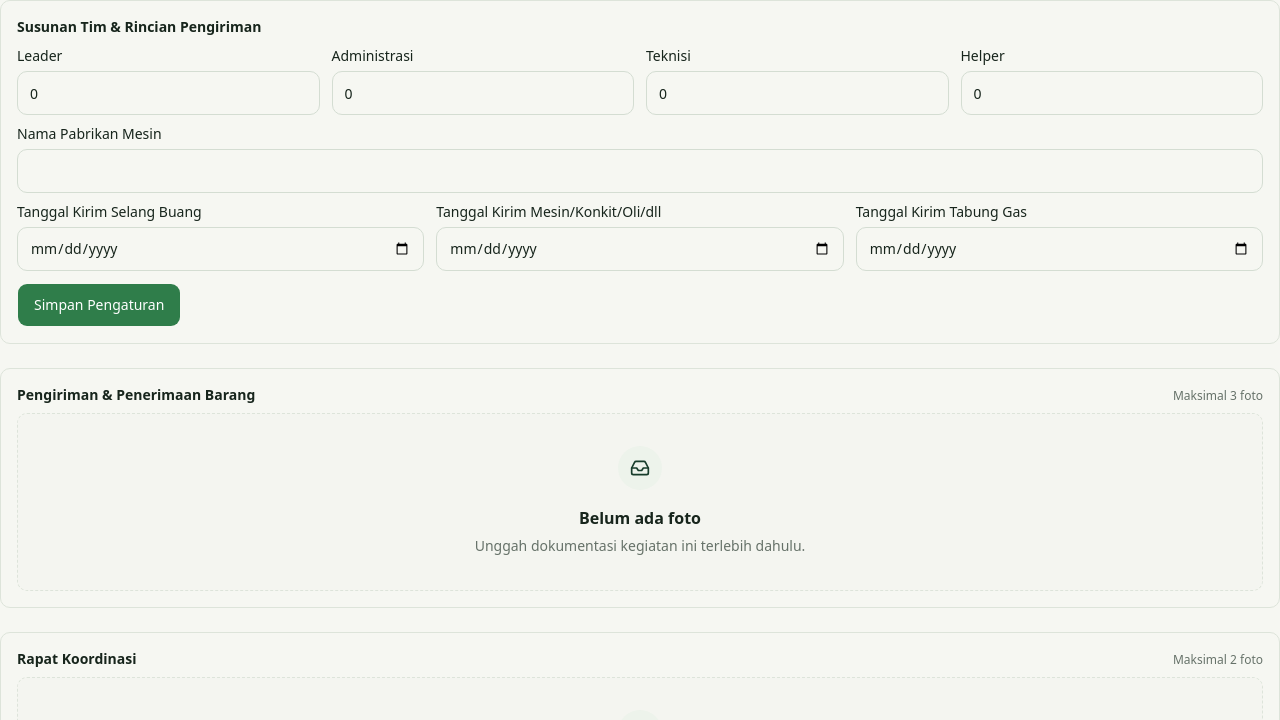
it: disables Generate while a settings save is pending
Click the button "Simpan Pengaturan" at x=99, y=305, box [17,283,181,327]
(page scrolled)
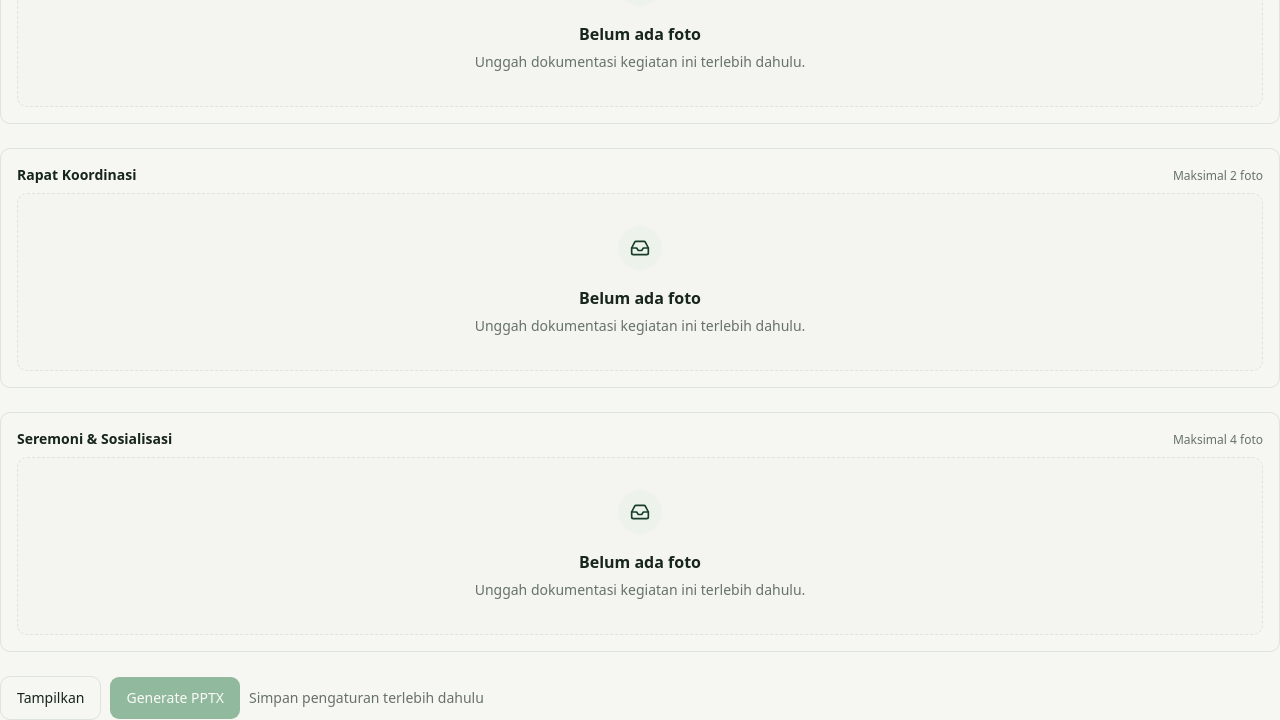
Check: the button "Generate PPTX" is disabled, box [109,676,241,719]
